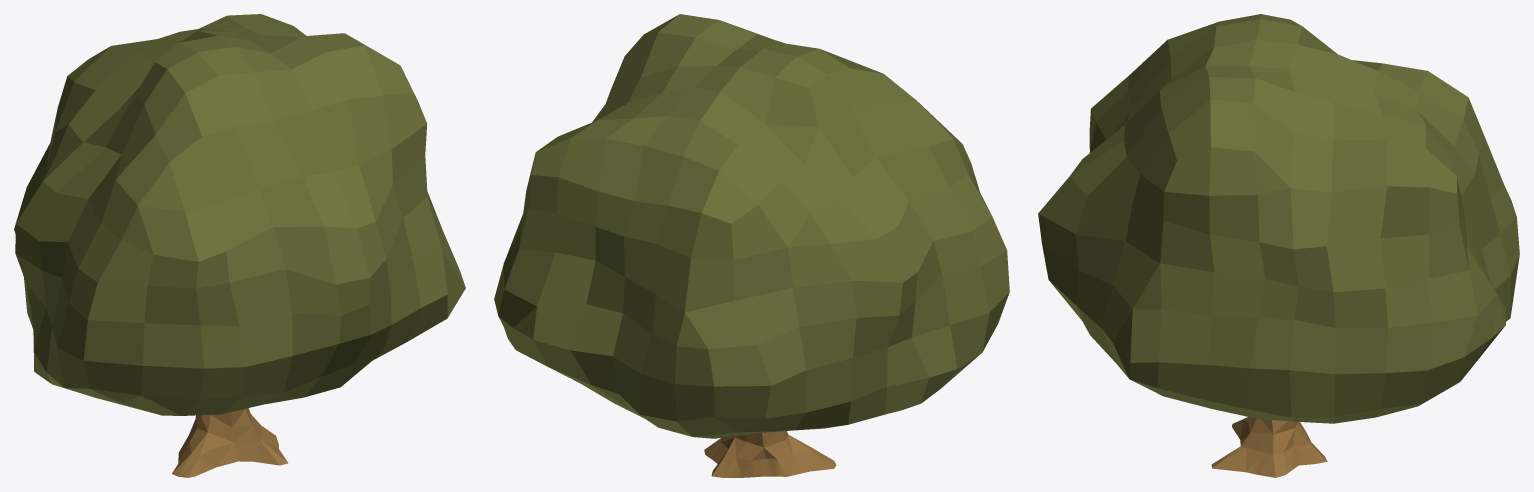
File: Tree_2.fbx
3 renders of one model, left to right at view 1: azimuth 30°, elevation 25°; view 2: azimuth 150°, elevation 25°; view 3: azimuth 270°, elevation 25°, orthographic.
Visible parts, largest first — view 1: Trunk:pPlane2; view 2: Trunk:pPlane2; view 3: Trunk:pPlane2.
Boxes of the visible parts, left/top/right/bottom form: Trunk:pPlane2: left=14, top=14, right=465, bottom=477; Trunk:pPlane2: left=494, top=14, right=1009, bottom=477; Trunk:pPlane2: left=1038, top=14, right=1519, bottom=477.
Size of the model in its own units: 4.51 by 4.47 by 4.69.
